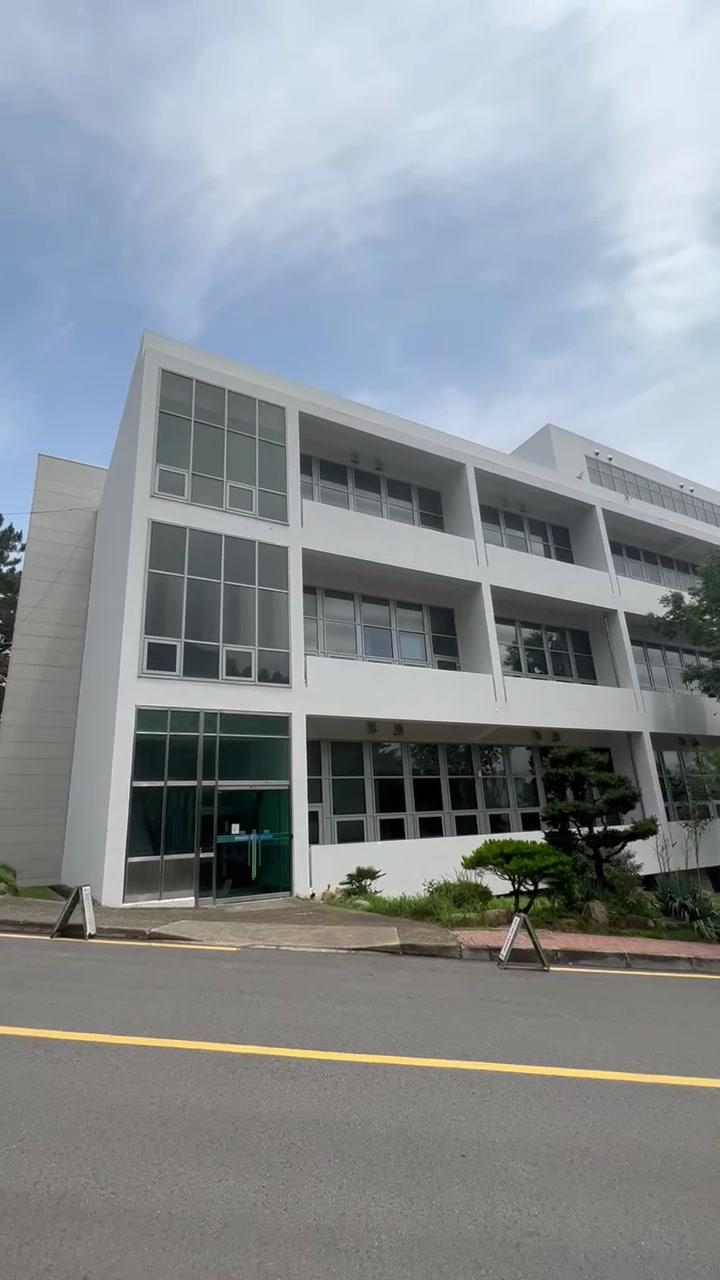building: (24, 342, 646, 846)
